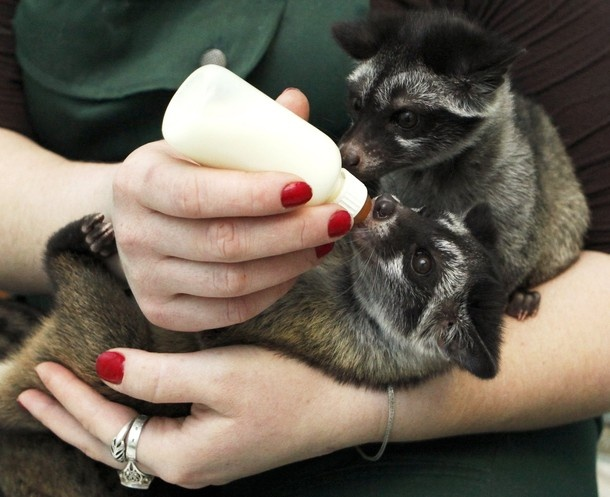Civet: (355, 173, 515, 374), (331, 31, 531, 174)
